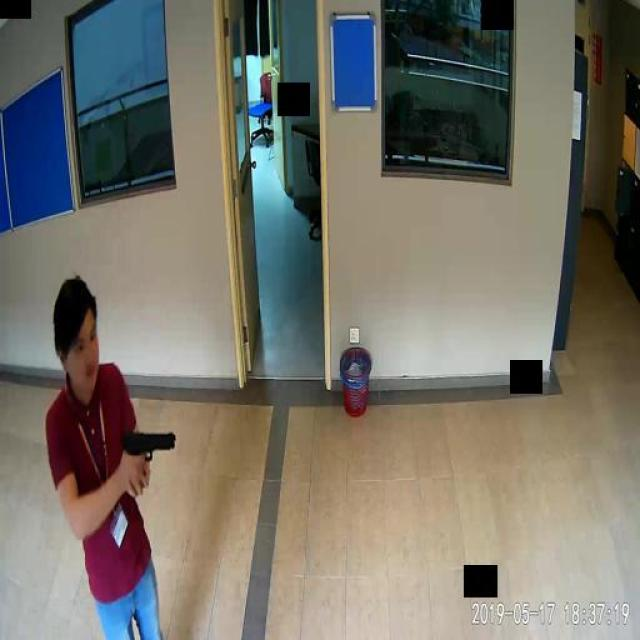gun: (121, 428, 174, 487)
